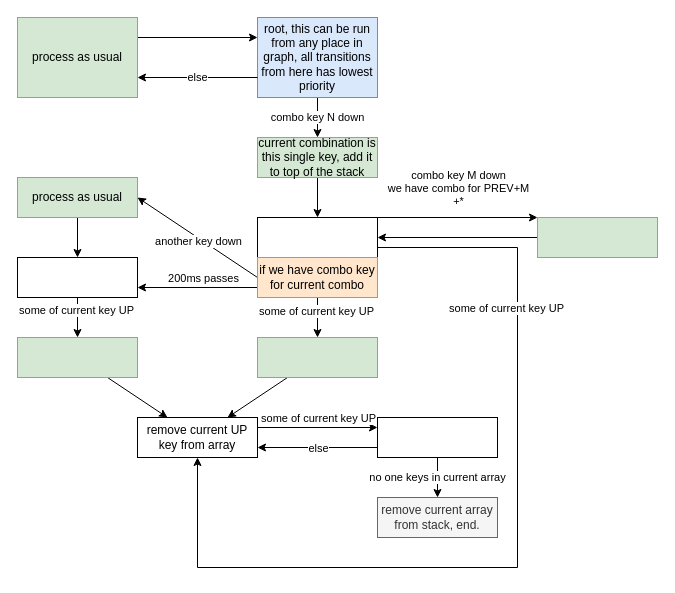
The diagram is 675 pixels wide and 593 high, and some of its shapes have lost their labels. The centre of each missing label's shape, as x and y in pixels:
"add current key to combination" goes at [597,237].
"press DOWN current combo" goes at [77,277].
"press DOWN+UP for current combination" goes at [317,357].
"press UP current combo" goes at [77,357].
